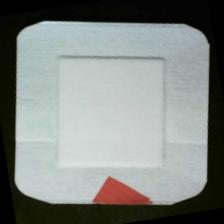Dressing: (1, 1, 224, 224)
Red_T: (85, 167, 158, 221)
